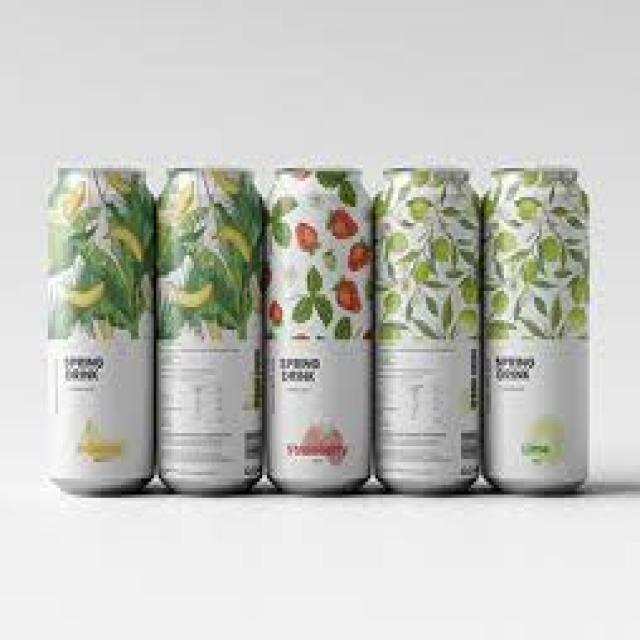Cans: (28, 152, 156, 494), (366, 158, 492, 494), (476, 162, 597, 494), (151, 152, 270, 488), (259, 162, 373, 501)
